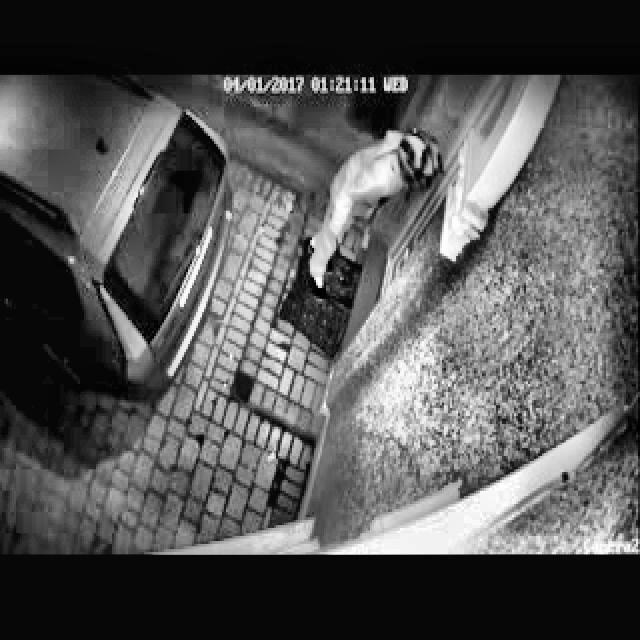burglary: (296, 123, 481, 319)
